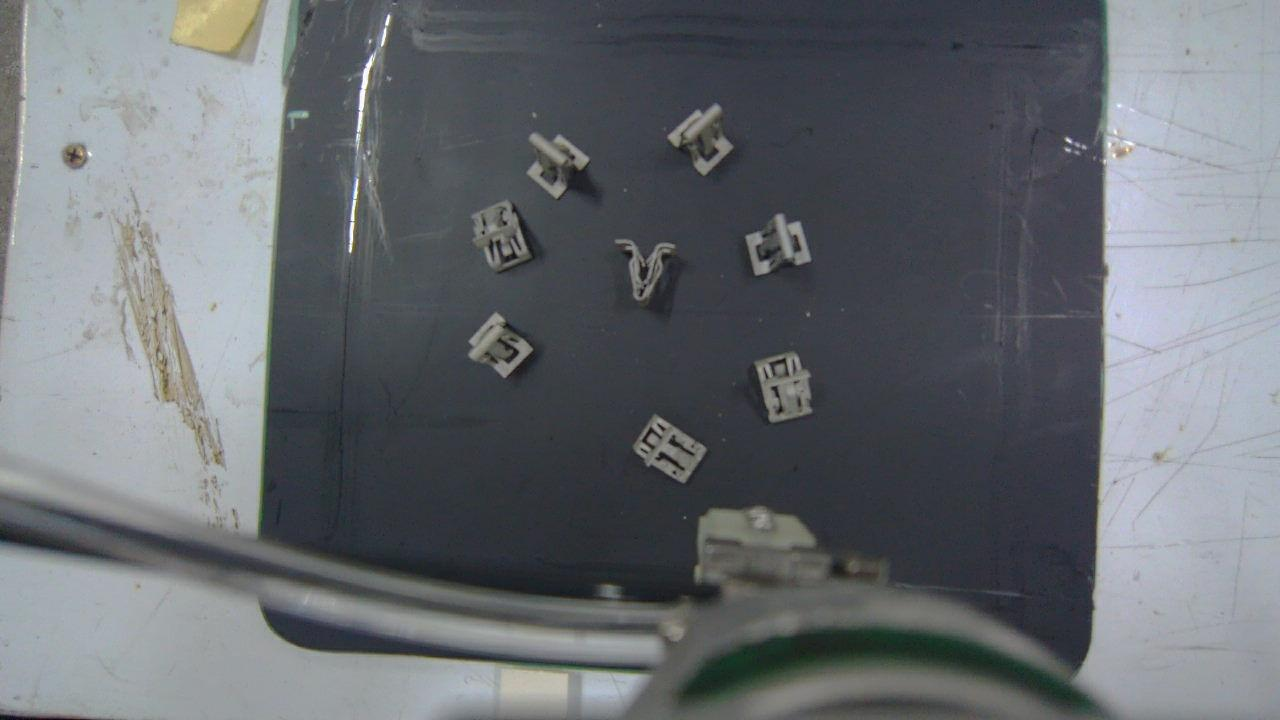ng: (665, 103, 735, 177), (633, 416, 709, 484), (468, 310, 533, 380), (471, 200, 534, 272), (756, 351, 816, 422), (616, 242, 676, 303)
pass: (746, 213, 813, 276), (527, 133, 590, 199)
